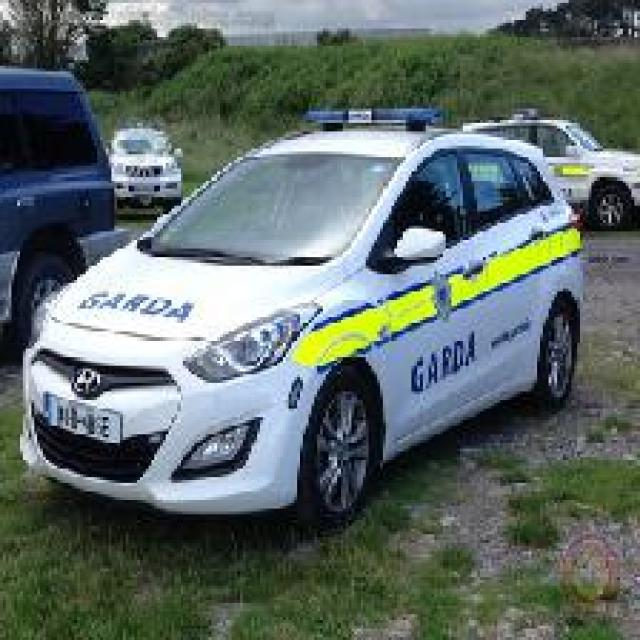Police-car: (17, 106, 586, 531), (460, 105, 637, 228), (106, 123, 183, 208)
